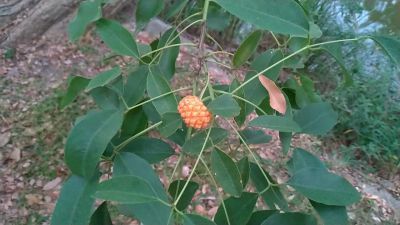eggs: (174, 91, 213, 129)
